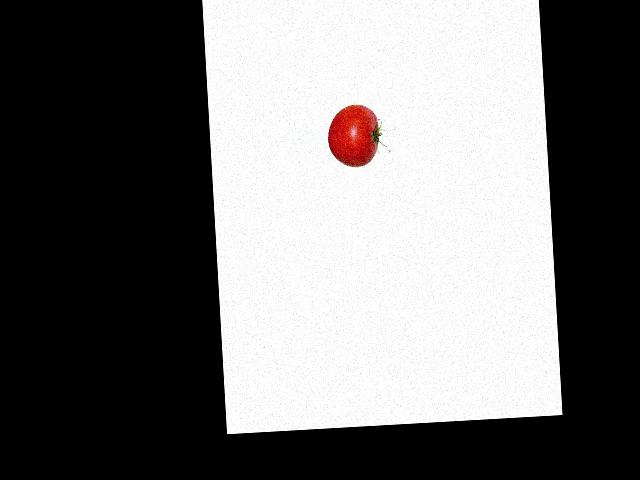tomato: (326, 103, 380, 167)
